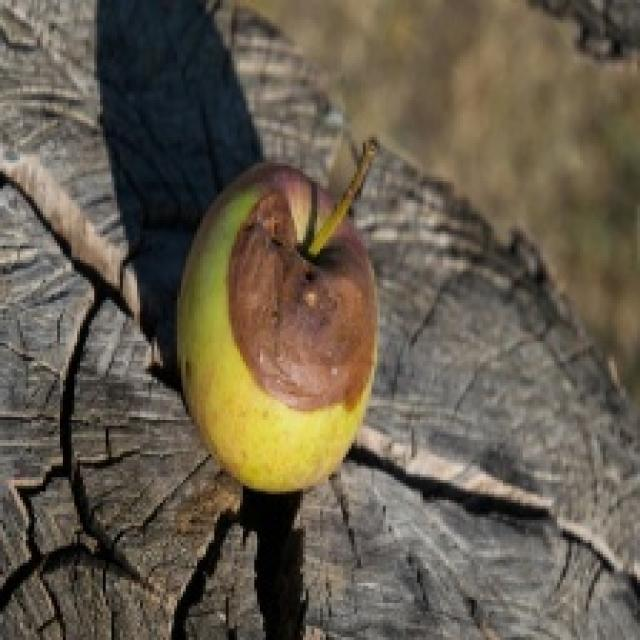rotten_apple: (180, 167, 376, 488)
